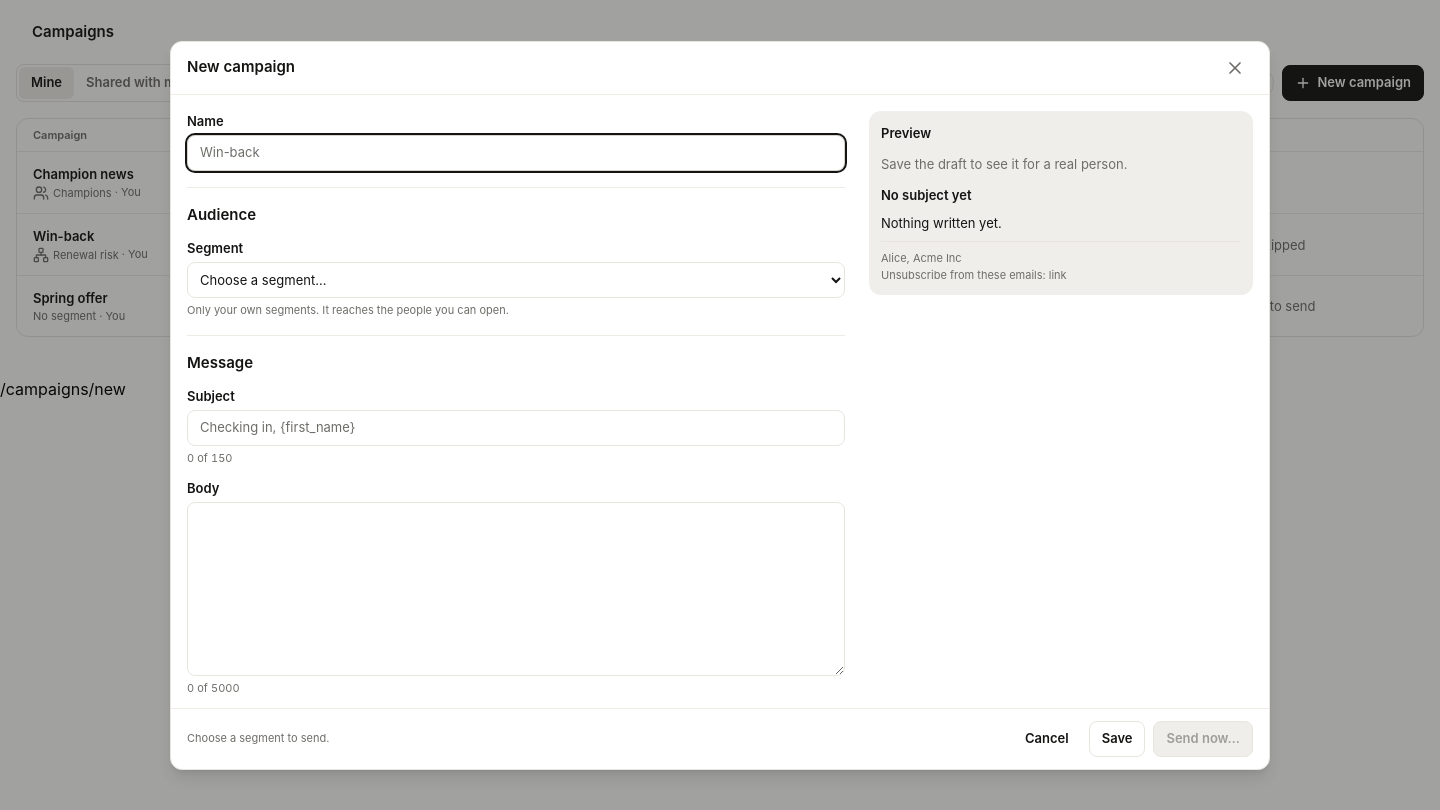
the campaign editor (spec §2.2) › opens over the list with Name focused, and saves a new campaign once, opening its page
In the field labelled "Name": {"x": 516, "y": 152} [187, 134, 845, 170], type "Champion update"
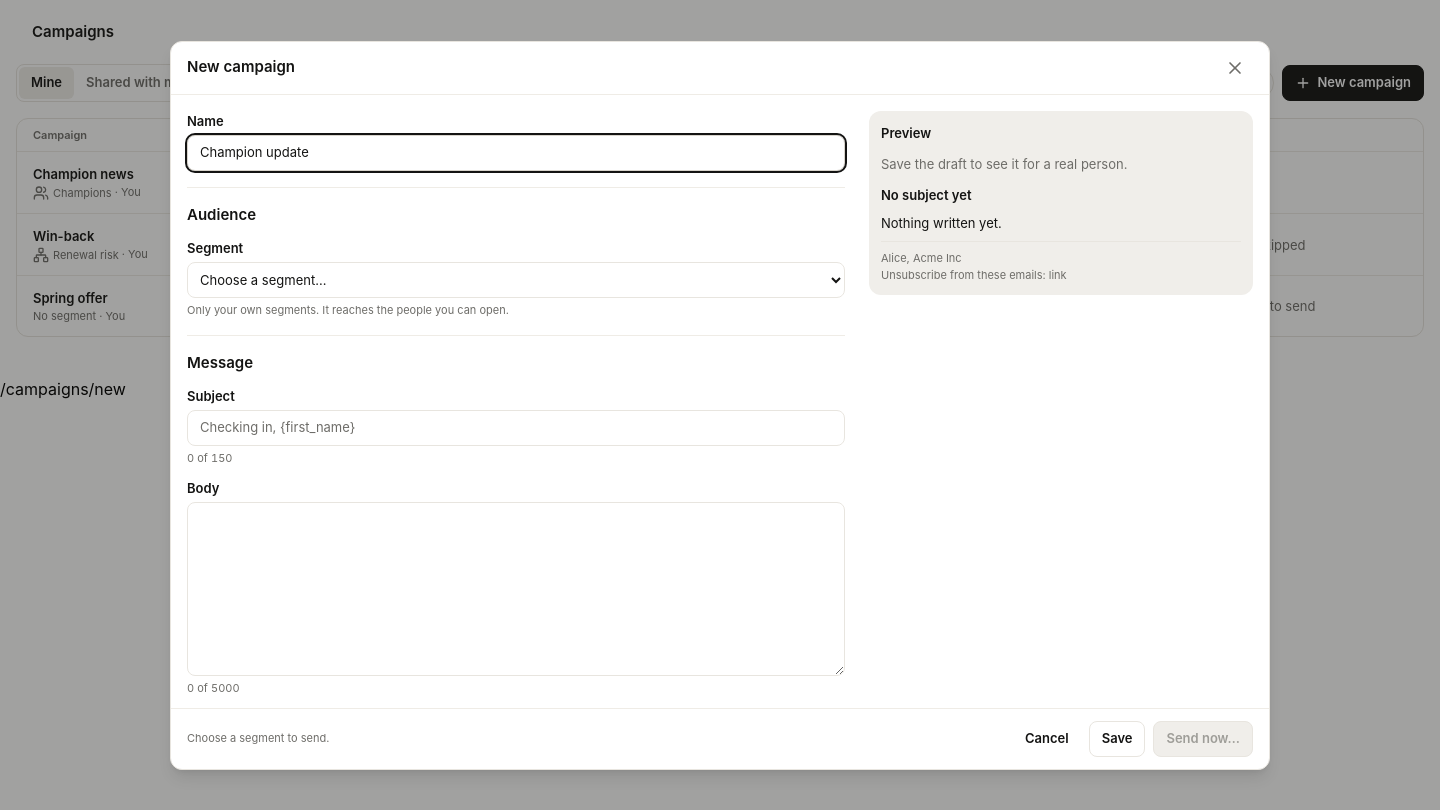
Select "Champions" in the dropdown labelled "Segment": {"x": 516, "y": 280} [187, 262, 845, 298]
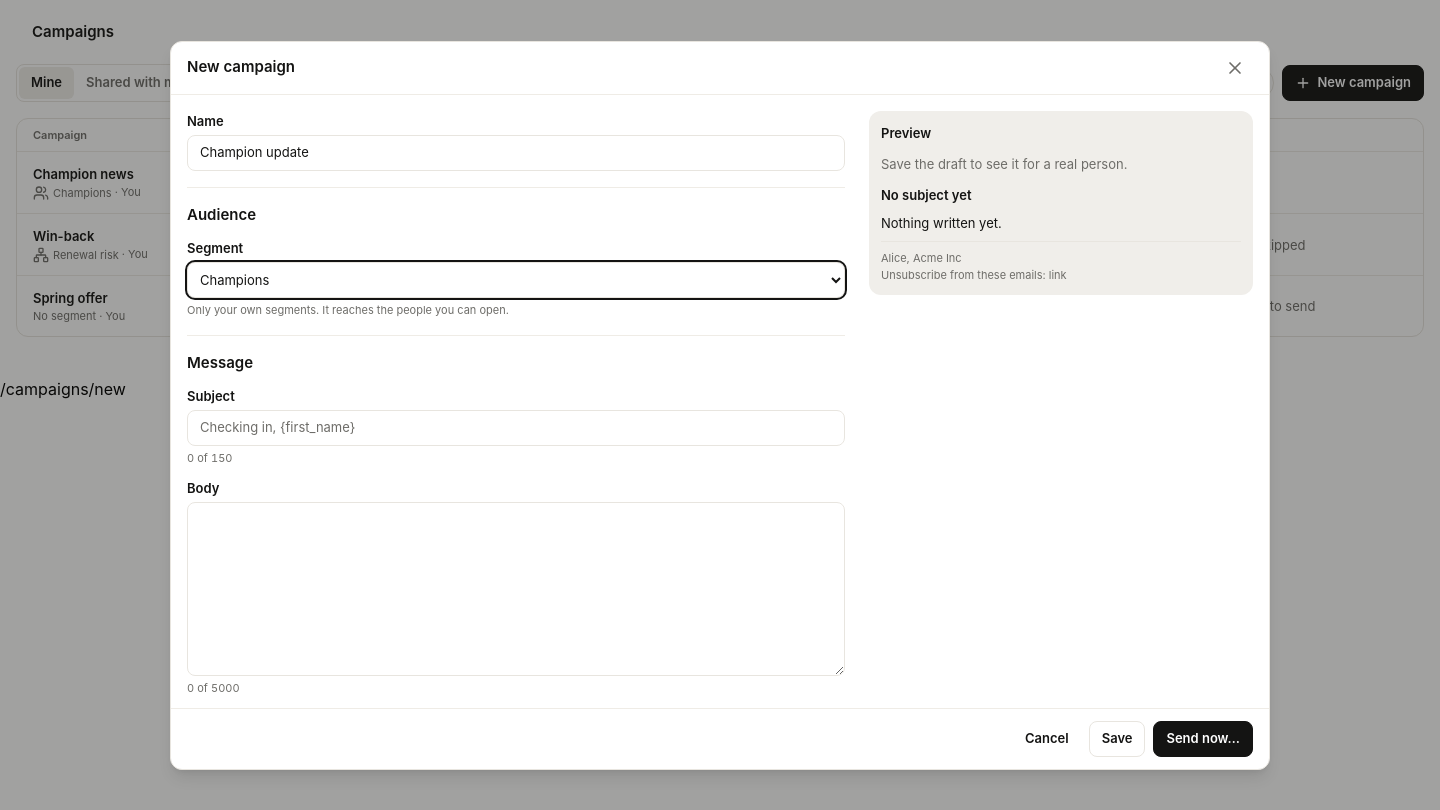
Double-click the button "Save": {"x": 1117, "y": 738} [1089, 720, 1146, 756]
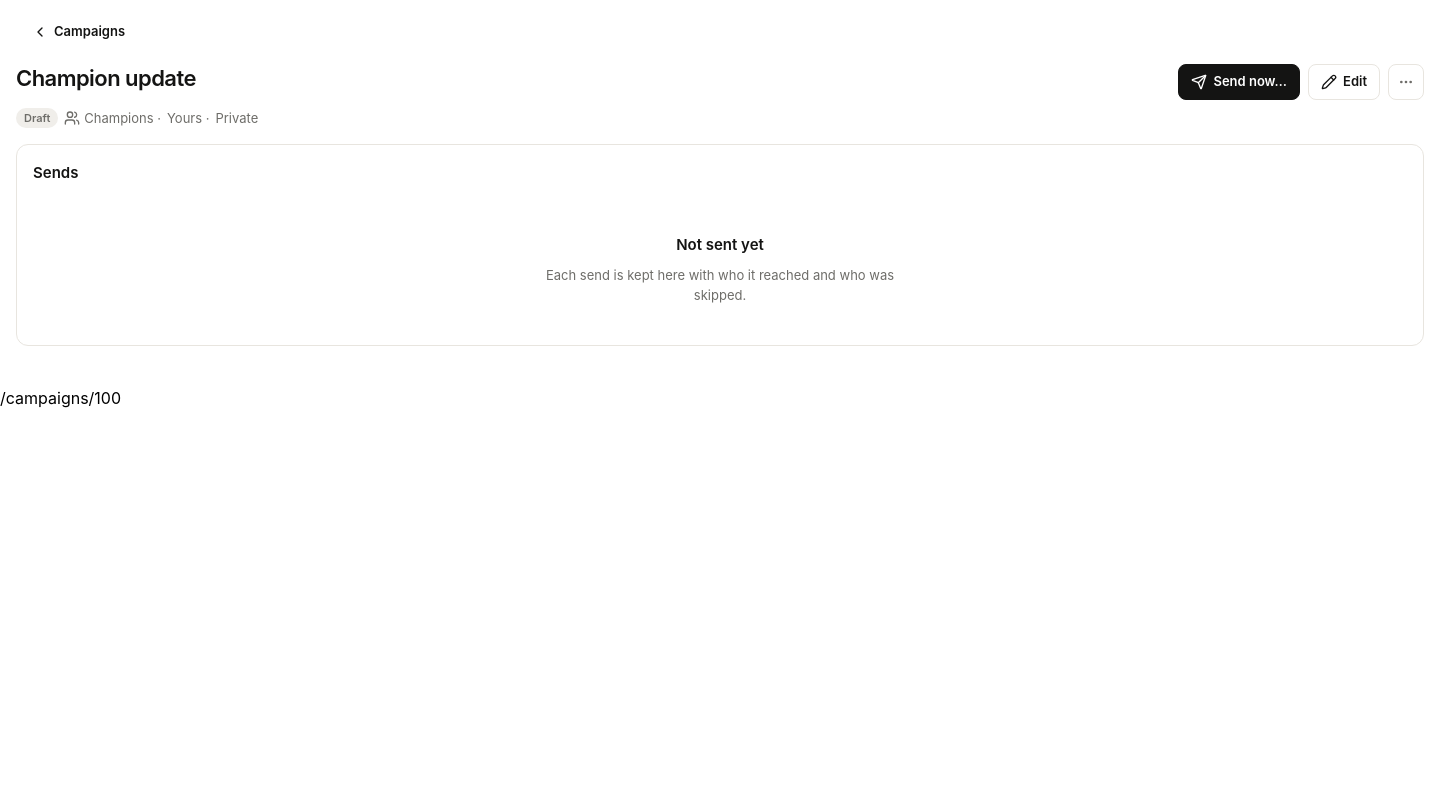
Result: the text with test id "where" reads "/campaigns/100" at [0, 388, 121, 408]
